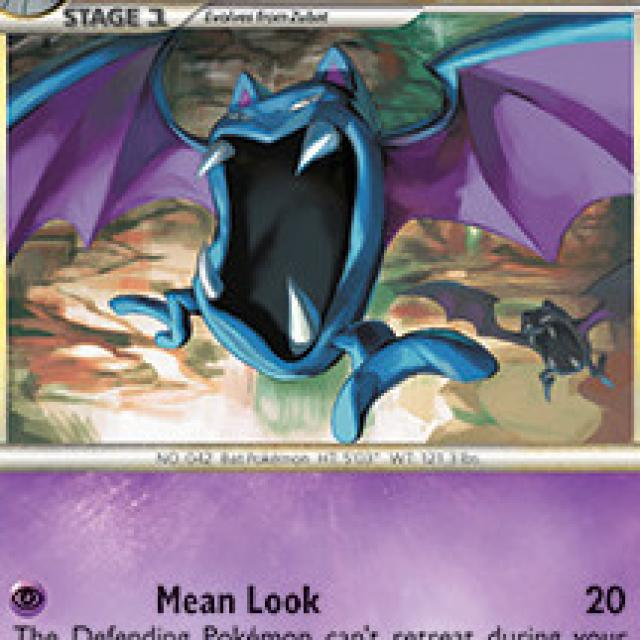Golbat: (128, 50, 462, 372), (486, 286, 628, 395)
